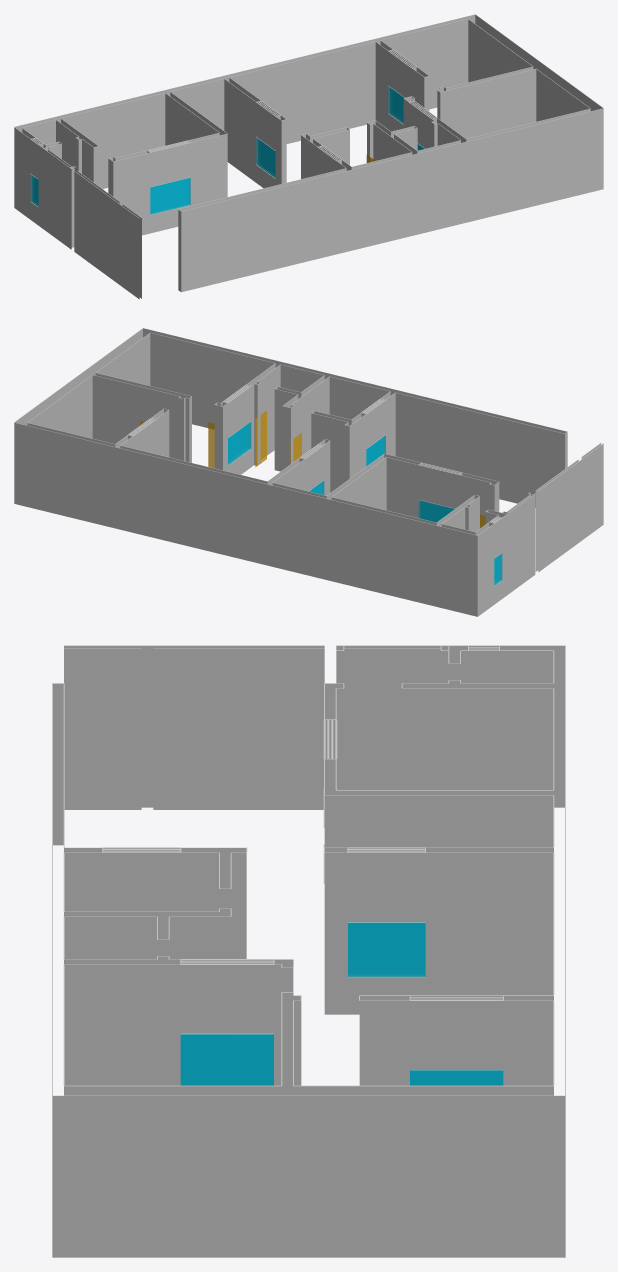
The model's file is 683a1cbb-5faf-4748-893a-8c5498179192_no_roof.glb.
The picture shows the model from 3 angles, top to bottom: view 1: azimuth 30°, elevation 25°; view 2: azimuth 150°, elevation 25°; view 3: azimuth 270°, elevation 25°; orthographic projection. The views are drawn at different scales.
Visible parts, largest first — view 1: walls, windows; view 2: walls, windows, doors; view 3: walls, windows.
Boxes of the visible parts, x1,y1,x2,y2 form: walls: (14, 14, 603, 299); windows: (30, 86, 424, 214); walls: (14, 328, 603, 616); windows: (228, 421, 502, 585); doors: (140, 410, 485, 528); walls: (52, 645, 565, 1257); windows: (180, 922, 503, 1085).
Bounding box in the file's own units: 20.91 × 3.5 × 10.08.
